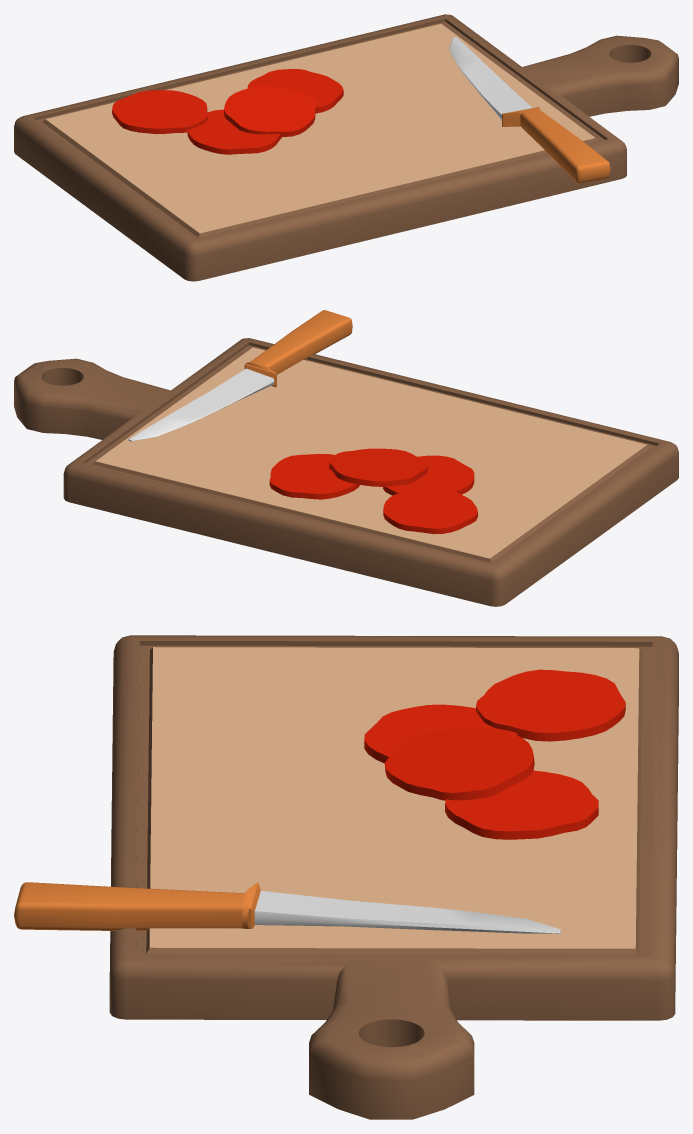
File: CuttingBoard.fbx
The picture shows the model from 3 angles, top to bottom: view 1: azimuth 30°, elevation 25°; view 2: azimuth 150°, elevation 25°; view 3: azimuth 270°, elevation 25°; orthographic projection. The views are drawn at different scales.
Parts seen in each view (by area): view 1: Board, Knife, Tomatoe.003, Tomatoe, Tomatoe.002, Tomatoe.001; view 2: Board, Knife, Tomatoe, Tomatoe.003, Tomatoe.001, Tomatoe.002; view 3: Board, Knife, Tomatoe.003, Tomatoe, Tomatoe.001, Tomatoe.002.
Part boxes in pixels (x1,y1,x2,y2): Board: (14, 14, 678, 281); Knife: (449, 37, 610, 183); Tomatoe.003: (223, 86, 317, 136); Tomatoe: (112, 90, 207, 134); Tomatoe.002: (187, 109, 281, 154); Tomatoe.001: (247, 69, 343, 113); Board: (14, 338, 678, 606); Knife: (128, 310, 352, 441); Tomatoe: (383, 487, 477, 534); Tomatoe.003: (329, 448, 427, 486); Tomatoe.001: (269, 454, 359, 499); Tomatoe.002: (383, 455, 474, 495); Board: (109, 635, 678, 1119); Knife: (14, 882, 561, 933); Tomatoe.003: (384, 727, 534, 800); Tomatoe: (476, 669, 625, 741); Tomatoe.001: (445, 770, 598, 839); Tomatoe.002: (364, 704, 517, 763).
Bounding box in the file's own units: 155 × 12.83 × 100.
